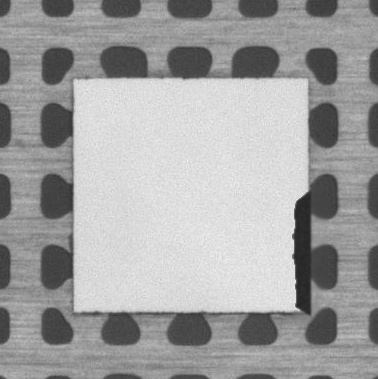DIE_BROKEN: (290, 192, 313, 319)
